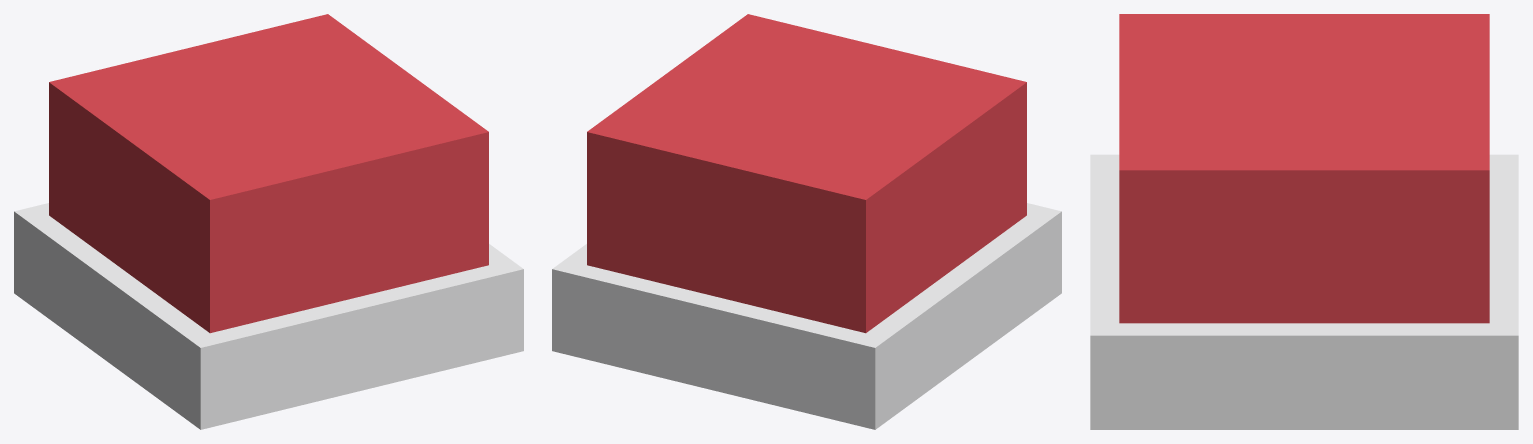
Rendered from noel_manga_inf.glb.
3 views of the same model, side by side, from view 1: azimuth 30°, elevation 25°; view 2: azimuth 150°, elevation 25°; view 3: azimuth 270°, elevation 25° (orthographic). The views are drawn at different scales.
Visible parts, largest first — view 1: noel_manga_inf; view 2: noel_manga_inf; view 3: noel_manga_inf.
Part boxes in pixels (bbox=[...]): noel_manga_inf: bbox=[14, 14, 523, 429]; noel_manga_inf: bbox=[552, 14, 1061, 429]; noel_manga_inf: bbox=[1090, 14, 1518, 429].
Size of the model in its own units: 0.33 by 0.21 by 0.33.
